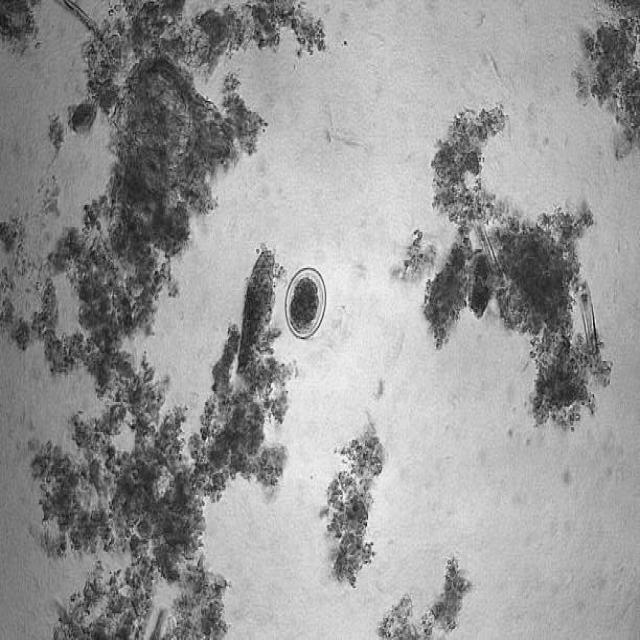Ascaris Lumbricoides: (283, 262, 329, 342)
